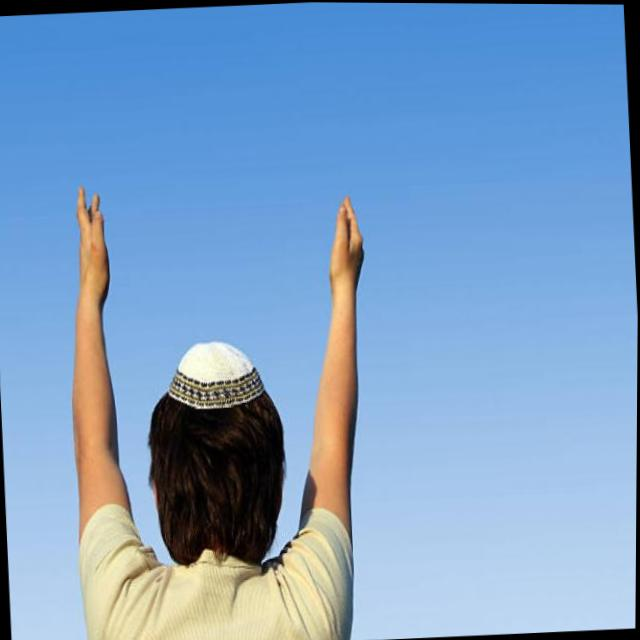no helmet: (133, 307, 295, 570)
